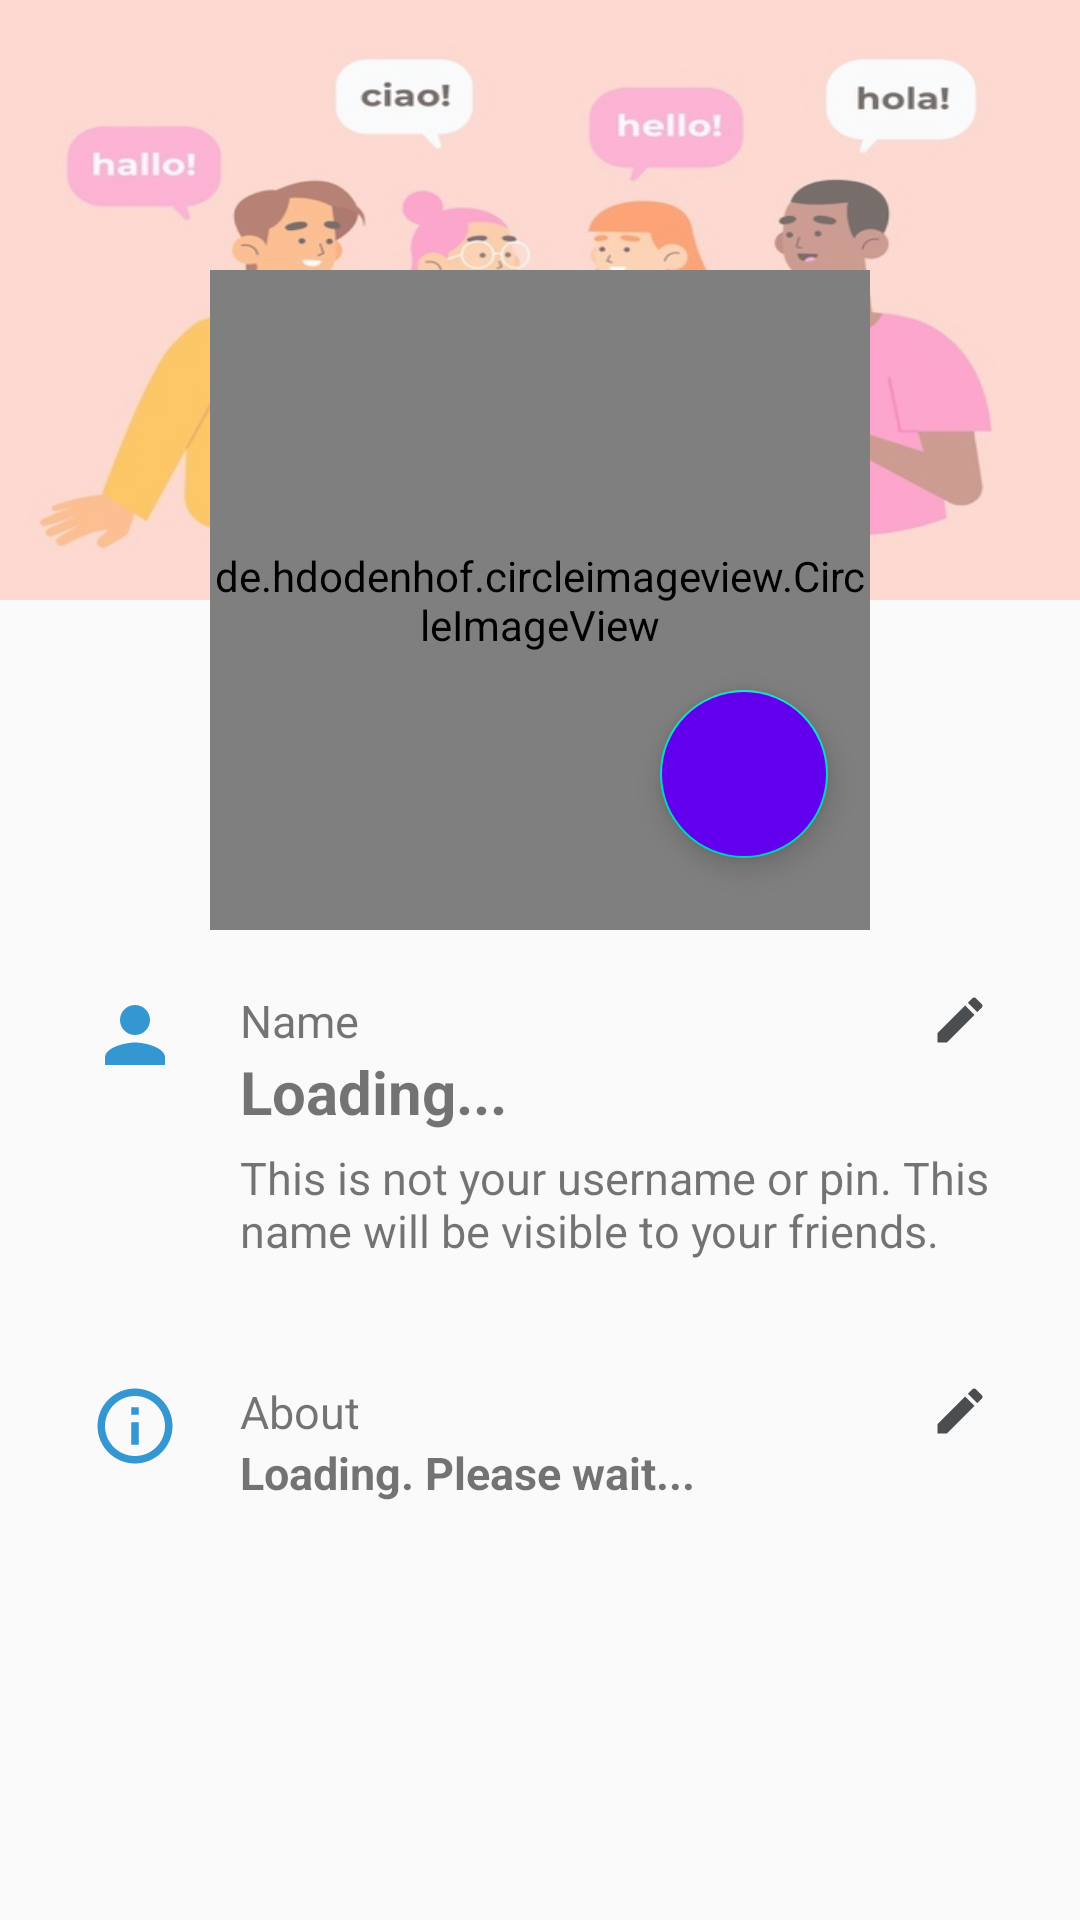

Icon click points for this 1080 × 1920 phone screenshot, format (x=x, y=y):
info: (x=135, y=1426)
pencil: (x=960, y=1020), (x=960, y=1411)
person: (x=135, y=1035)
